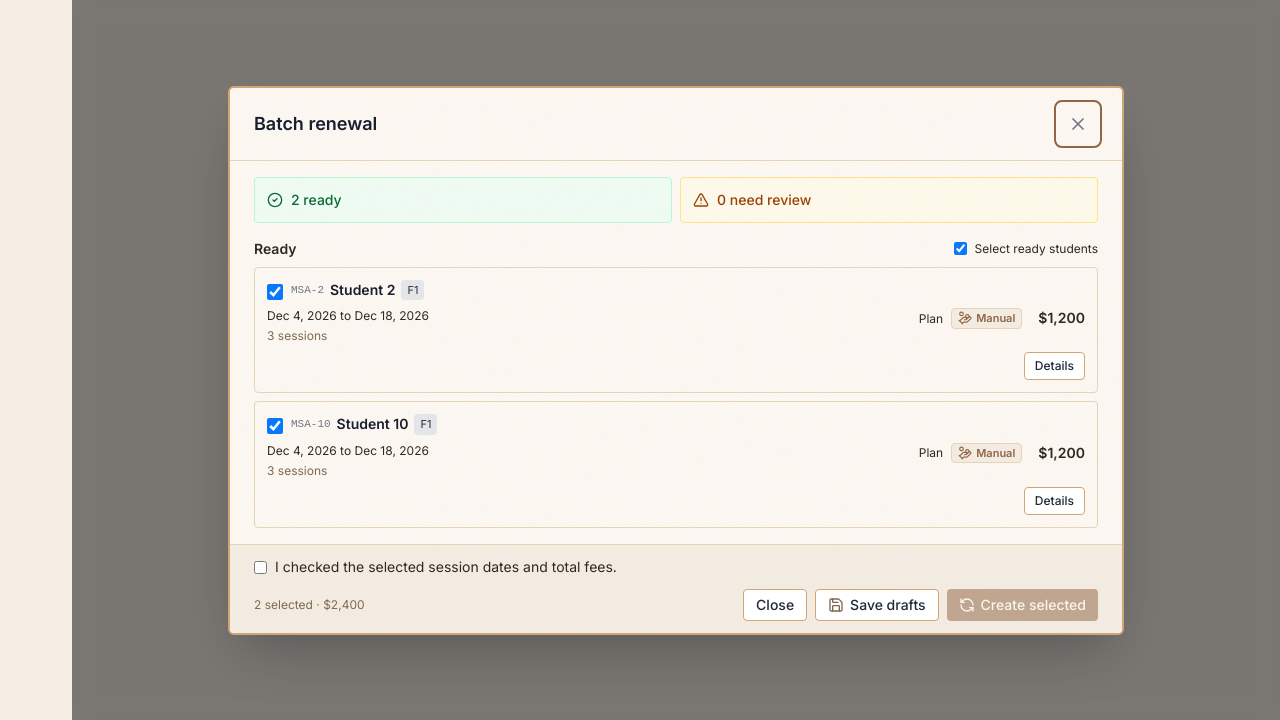
it: batch renewal comparison › reports partial success and retries only the unresolved original action
Expected: the dialog is shown, [228,86,1124,634]
Click the checkbox labelled "I checked the selected session dates and total fees.". click: point(260, 567)
box: [254,560,267,574]
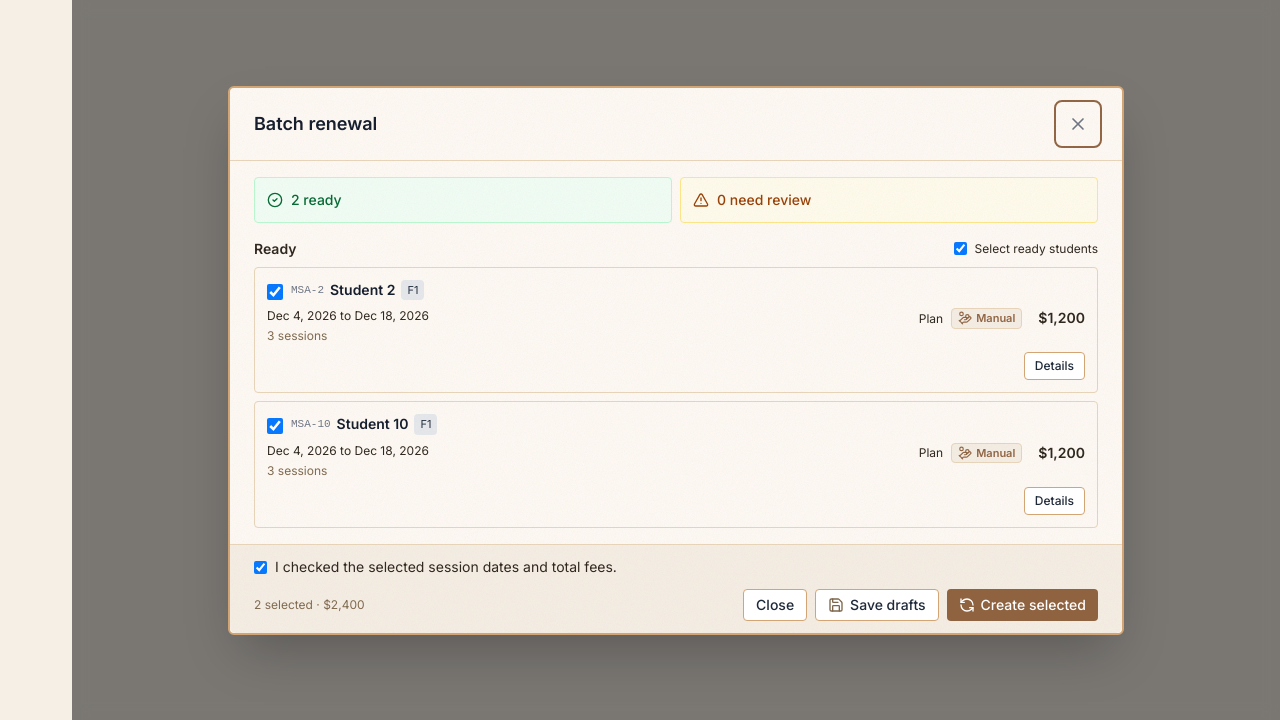
Click the button "Create selected". click: point(1022, 604)
box: [947,588,1098,620]
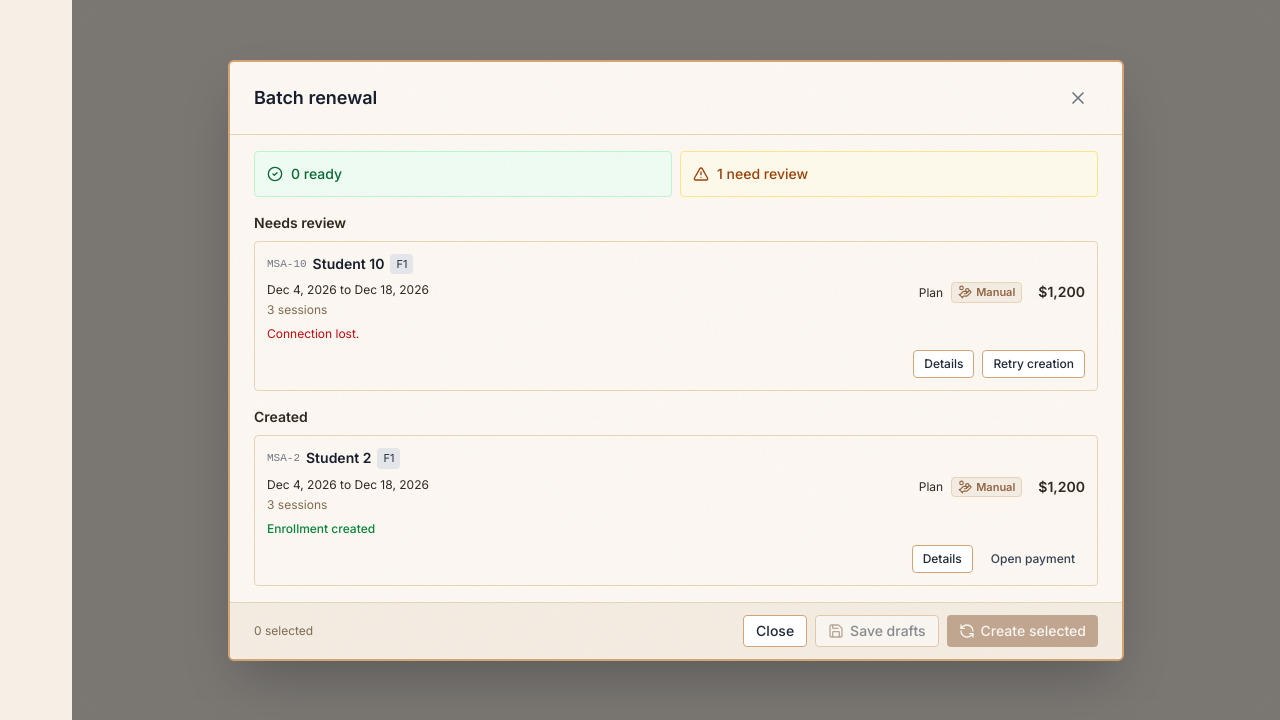
Result: the element named "Created renewals" shows "Student 2" at [306,449,371,466]
Result: the checkbox is gone
Click the 1st button "Details". click: point(944, 364)
box: [913,350,974,378]
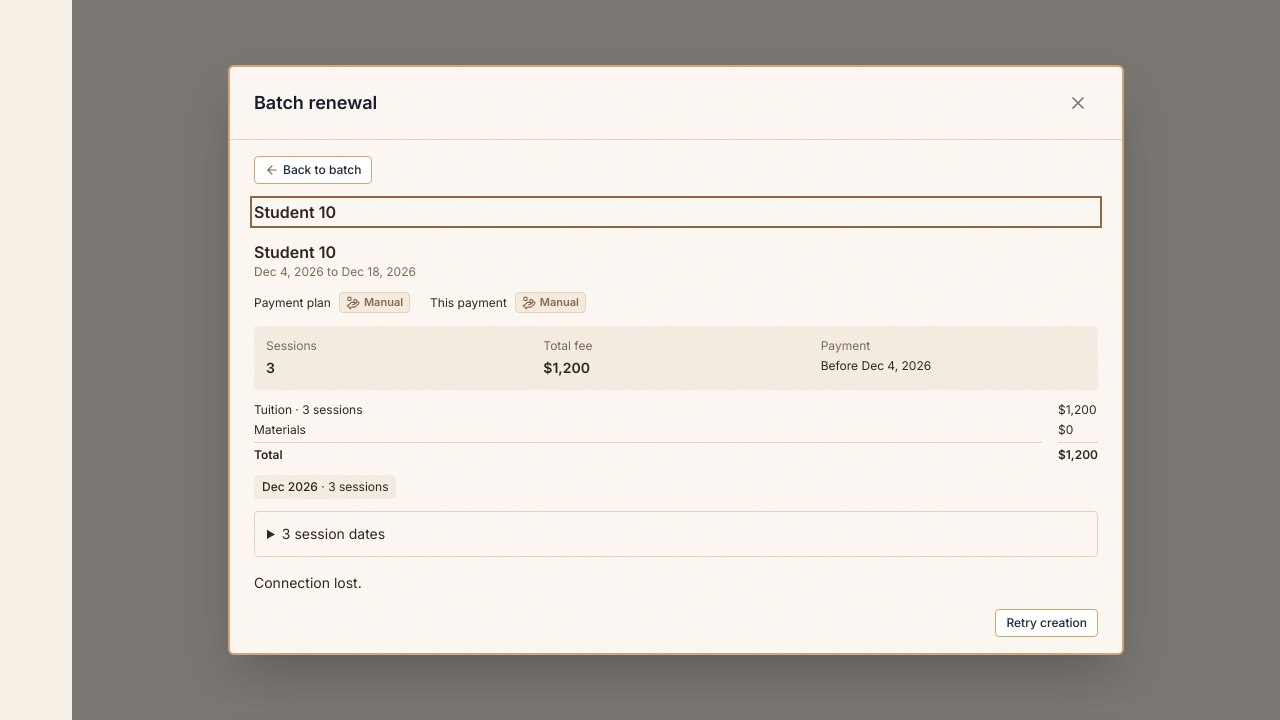
Click the button "Back to batch". click: point(313, 170)
box: [254,156,372,184]
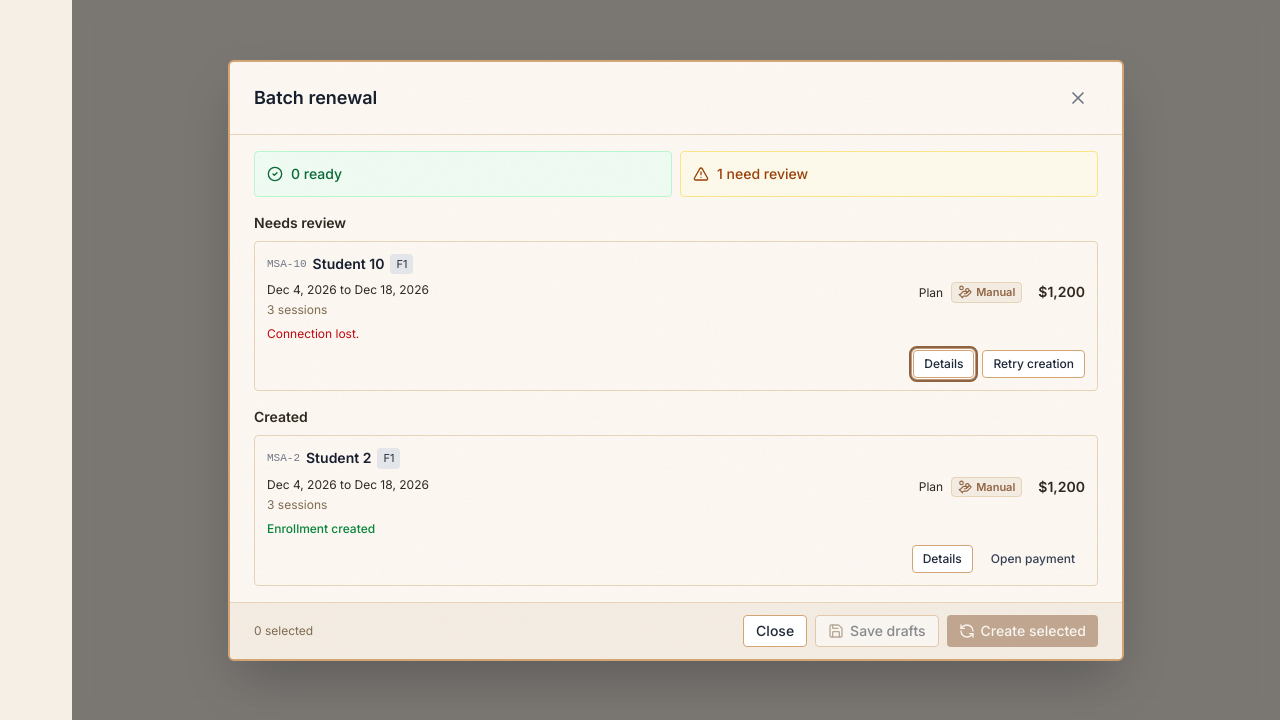
Click the button "Retry creation". click: point(1034, 364)
box: [982,350,1085,378]
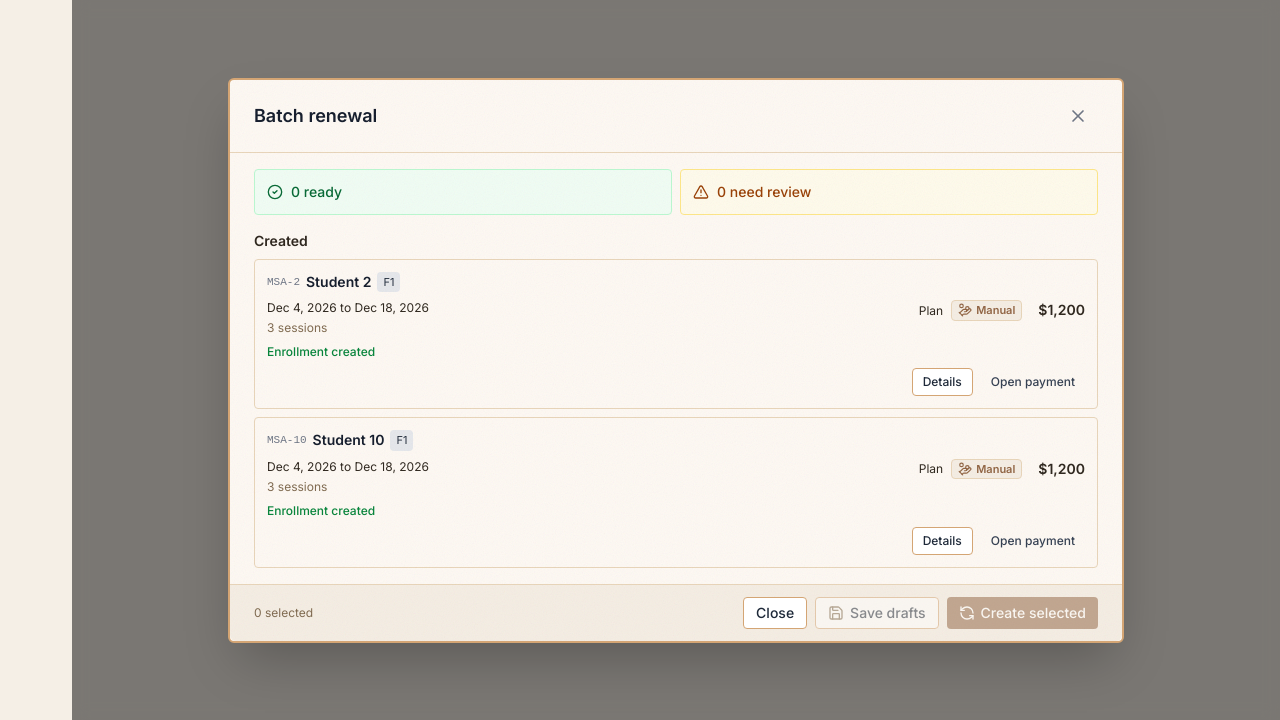
Result: the number of links "Open payment" is 2 at [991,374,1075,389]; [991,532,1075,548]
